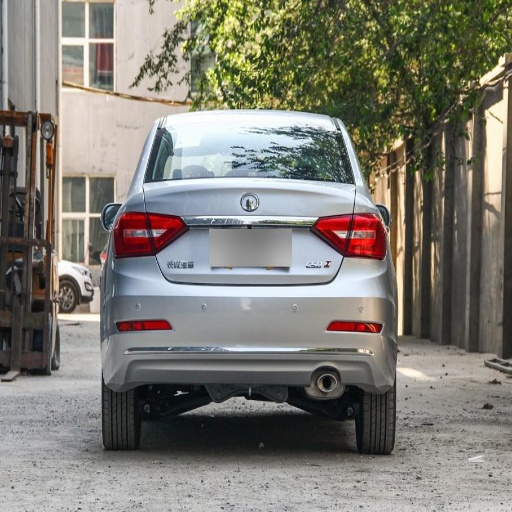back_bumper: (100, 256, 395, 401)
tailgate: (165, 178, 354, 283)
trunk: (149, 180, 236, 284)
